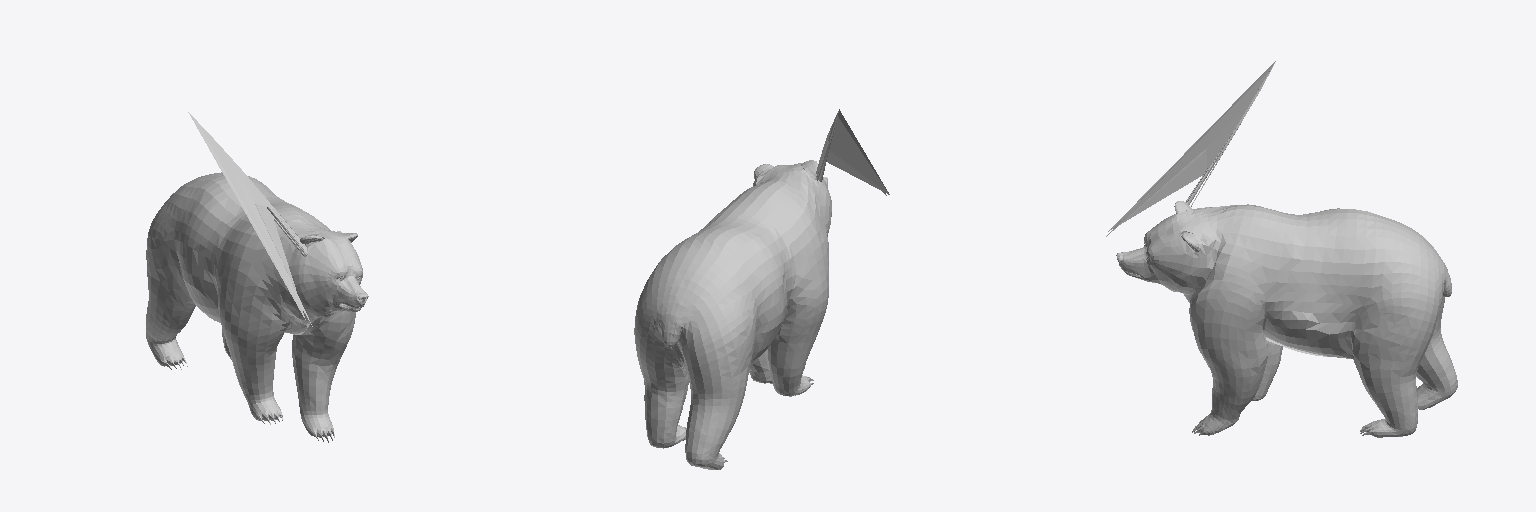
Rendered from Bear0050.obj.
The picture shows the model from 3 angles: view 1: azimuth 30°, elevation 25°; view 2: azimuth 150°, elevation 25°; view 3: azimuth 270°, elevation 25°; orthographic projection.
Visible parts, largest first — view 1: Object_237; view 2: Object_237; view 3: Object_237.
Boxes of the visible parts, <box> form: Object_237: <box>146,112,368,442</box>; Object_237: <box>634,109,889,469</box>; Object_237: <box>1106,61,1457,437</box>.
Bounding box in the file's own units: 2.32 × 5.18 × 5.13.